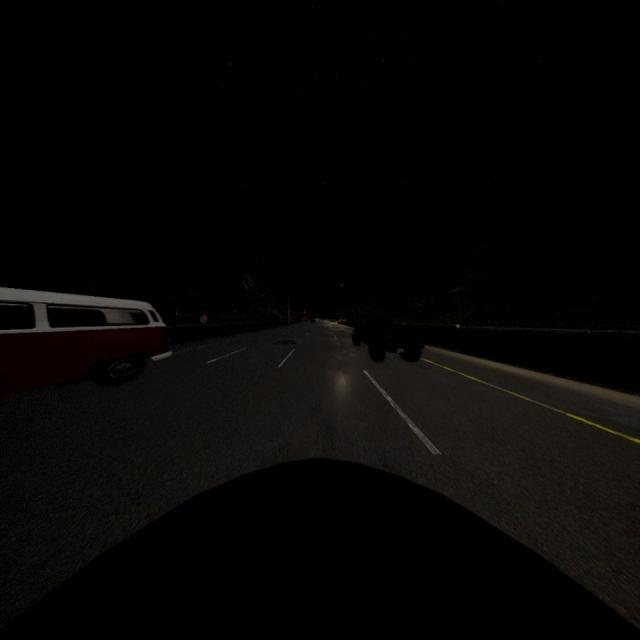Traffic_Signs: (200, 314, 208, 324)
Vehicle: (0, 454, 640, 640), (0, 287, 169, 396), (351, 316, 424, 364), (309, 318, 315, 324)
